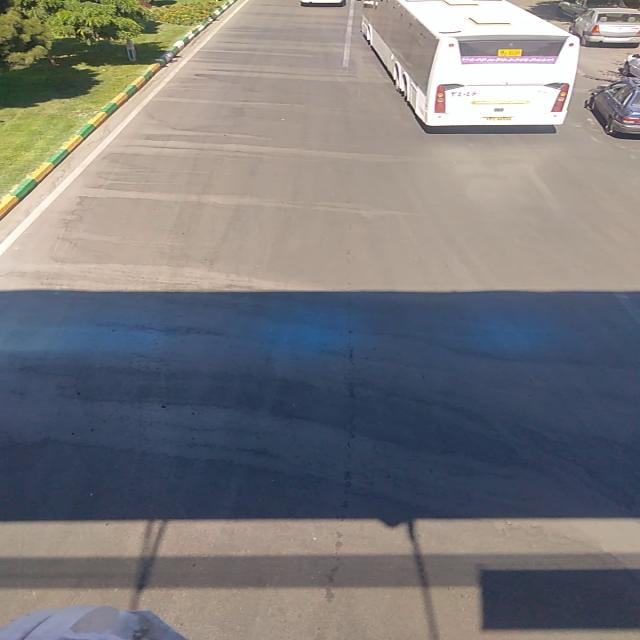bus: (361, 1, 577, 129)
car: (587, 79, 640, 134), (571, 6, 640, 45)
